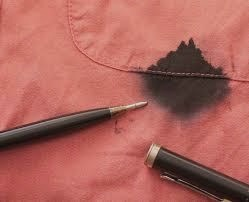ink: (148, 43, 225, 110)
